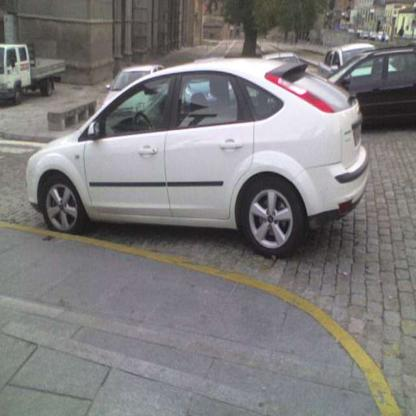Car: (25, 29, 415, 260)
Truck: (0, 44, 66, 105)
